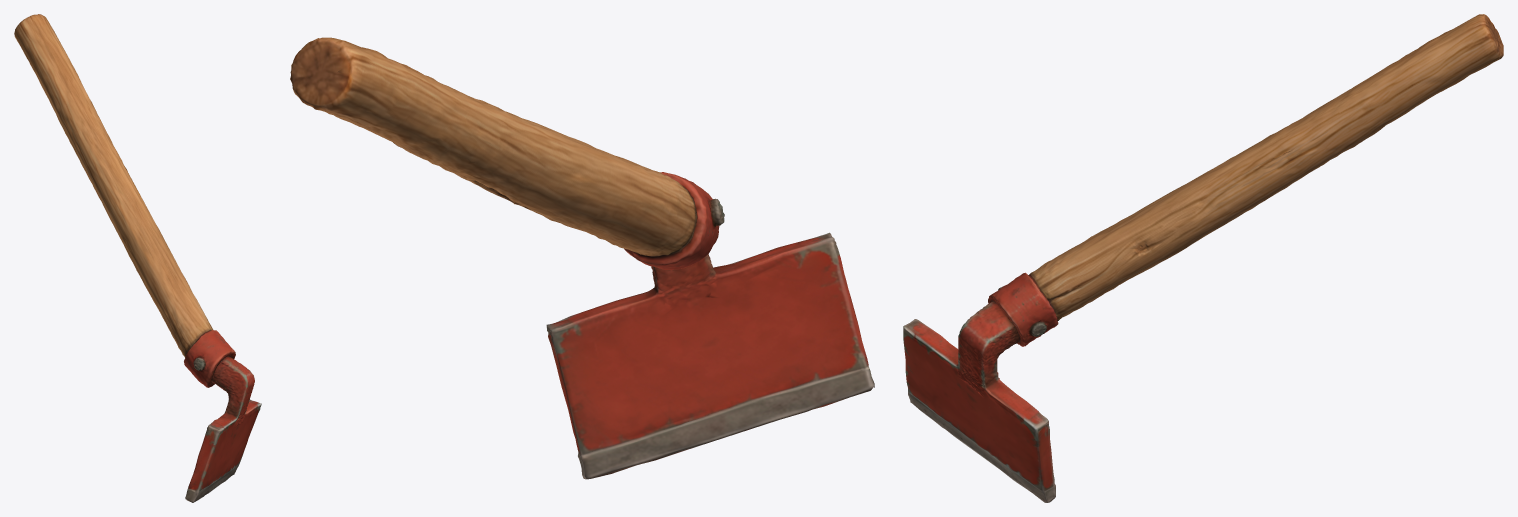
The model's file is hoe.glb.
3 renders of one model, left to right at view 1: azimuth 30°, elevation 25°; view 2: azimuth 150°, elevation 25°; view 3: azimuth 270°, elevation 25°, orthographic. The views are drawn at different scales.
Parts seen in each view (by area): view 1: tripo_node_b2844a55-4d2e-47f5-8b45-f6c7778d3f9f; view 2: tripo_node_b2844a55-4d2e-47f5-8b45-f6c7778d3f9f; view 3: tripo_node_b2844a55-4d2e-47f5-8b45-f6c7778d3f9f.
Part boxes in pixels (bbox=[...]): tripo_node_b2844a55-4d2e-47f5-8b45-f6c7778d3f9f: bbox=[14, 14, 261, 502]; tripo_node_b2844a55-4d2e-47f5-8b45-f6c7778d3f9f: bbox=[290, 37, 874, 479]; tripo_node_b2844a55-4d2e-47f5-8b45-f6c7778d3f9f: bbox=[903, 14, 1503, 502].
Bounding box in the file's own units: 0.3007 × 0.8333 × 0.9789.
1 material, 1 textured.
